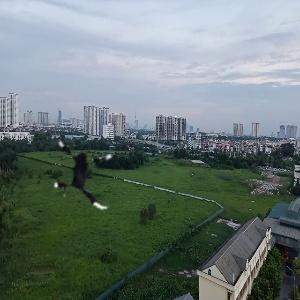drone: (40, 122, 139, 221)
